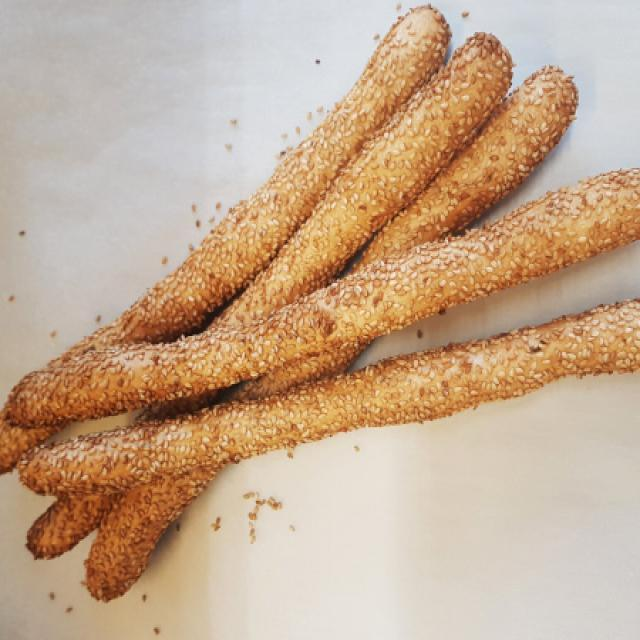Grissini: (19, 18, 637, 604)
